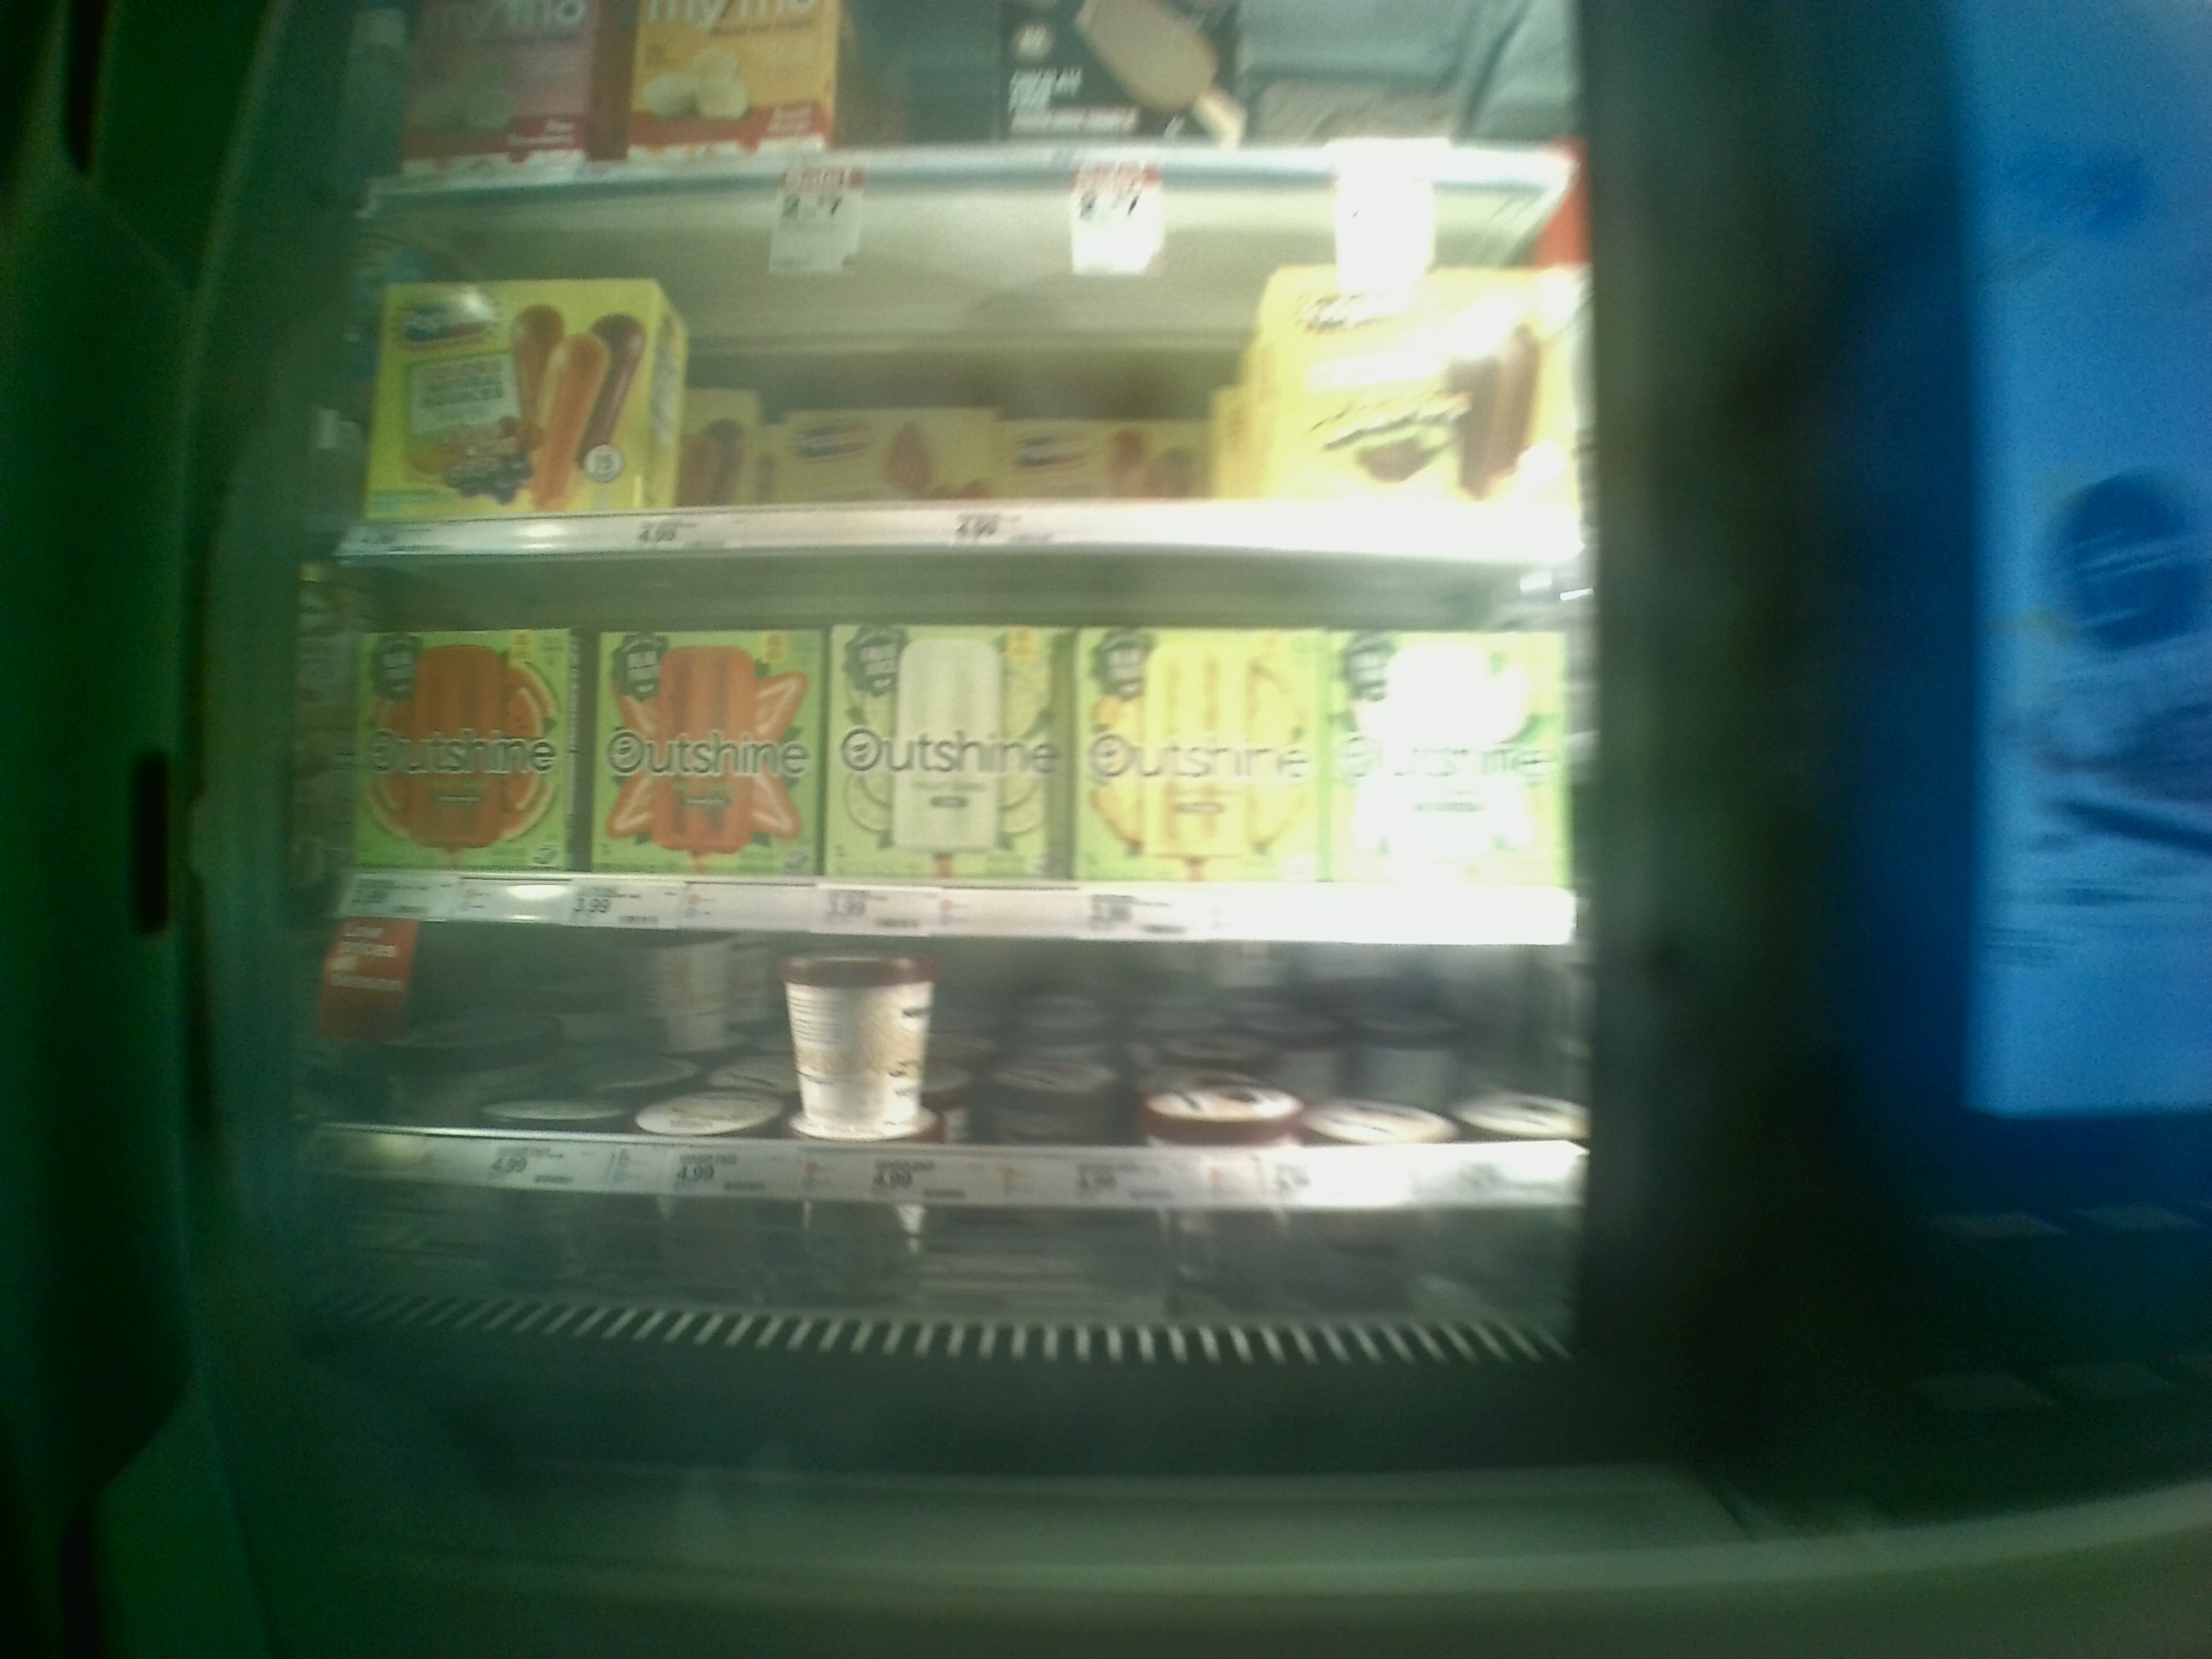ice-cream-shelf: (324, 547, 1601, 927), (361, 192, 1601, 545), (320, 927, 1595, 1206)
